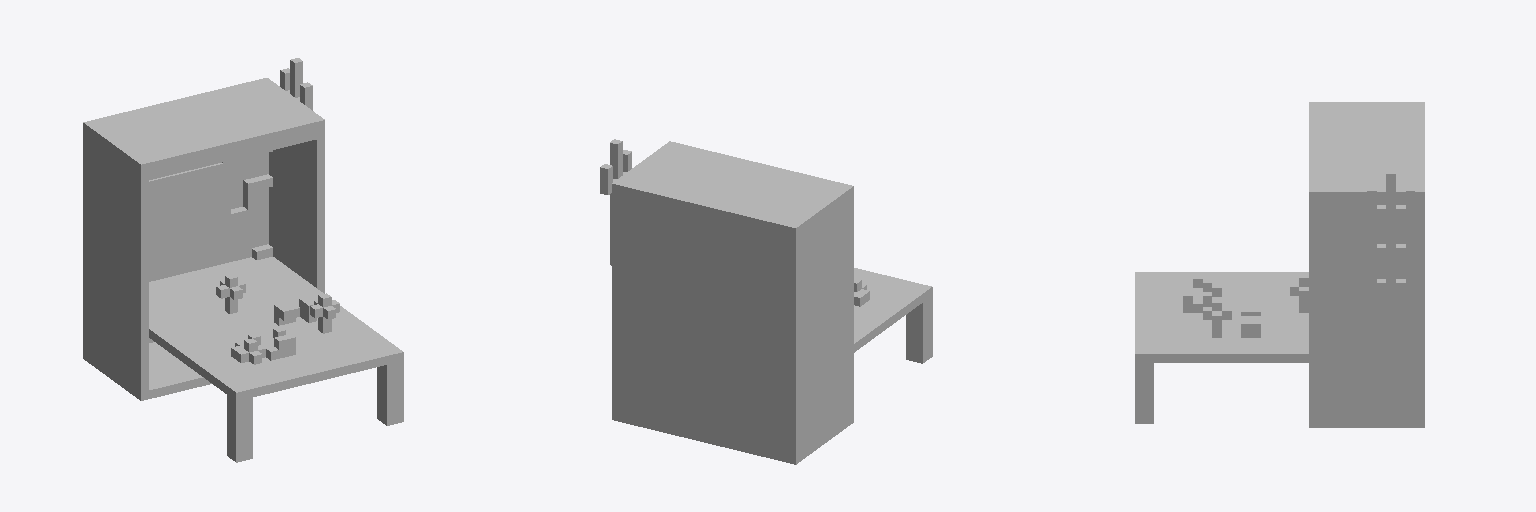
Rendered from tec skap.obj.
3 views of the same model, side by side, from view 1: azimuth 30°, elevation 25°; view 2: azimuth 150°, elevation 25°; view 3: azimuth 270°, elevation 25° (orthographic).
Parts seen in each view (by area): view 1: object 1; view 2: object 1; view 3: object 1.
Boxes of the visible parts, <box> form: object 1: <box>83,58,403,462</box>; object 1: <box>600,139,932,464</box>; object 1: <box>1135,102,1424,427</box>.
Size of the model in its own units: 2.4 by 3 by 3.